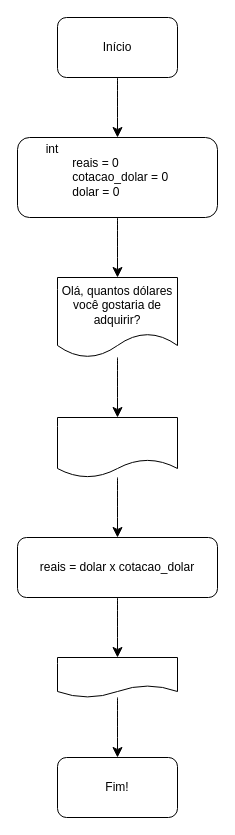
Some shapes in this 235 by 835 pixel diagram are drawn without their labels. Here are the shapes that lost their labels. From the top down, the centre of each, then its label:
point 117,447: E qual a cotação do dólar hoje?
point 117,677: São "reais" reais!
